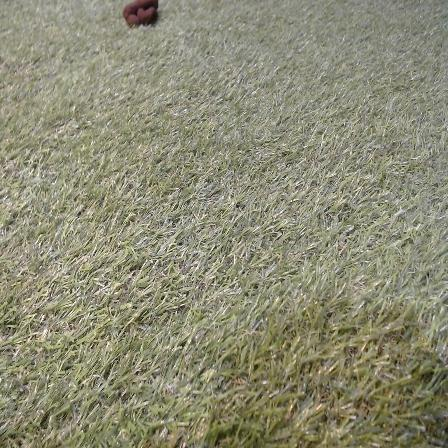dog-poop: (121, 0, 162, 30)
